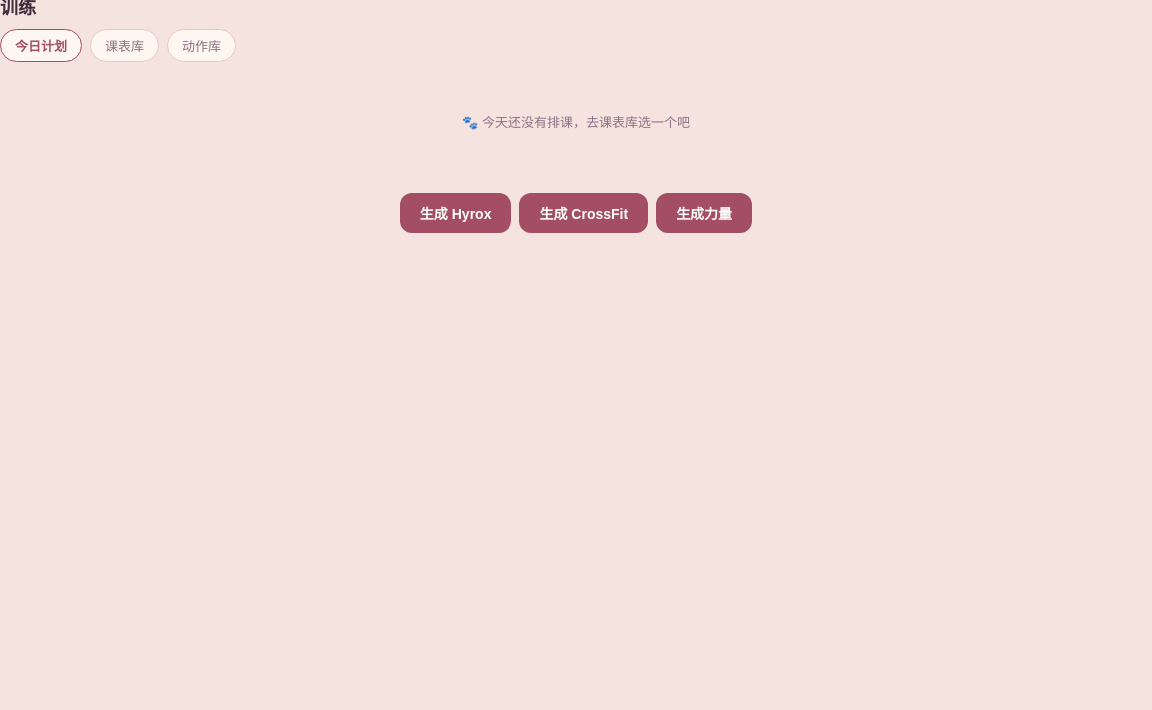
Test: TrainView 动作库 › 点击动作 → 展示详情（肌群/要点/常见错误/视频外链）
The image size is (1152, 710).
Click the button "动作库": (202, 46) [167,29,236,62]
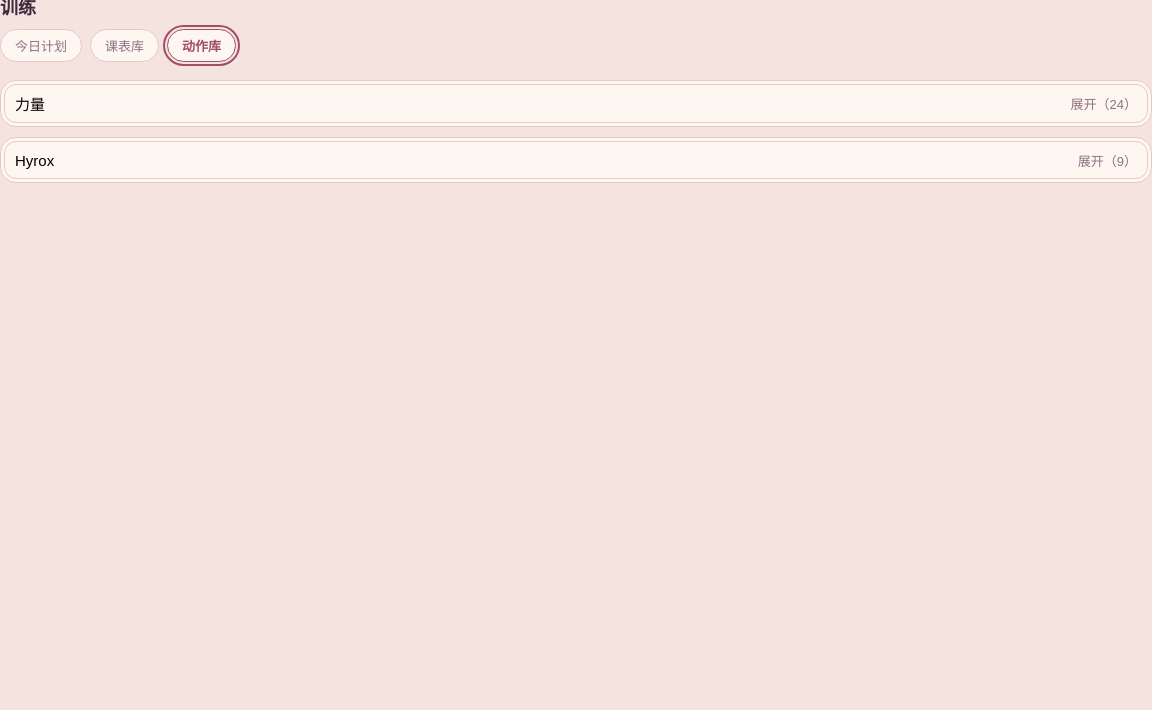
Click the text "力量": (30, 104) [15,93,45,114]
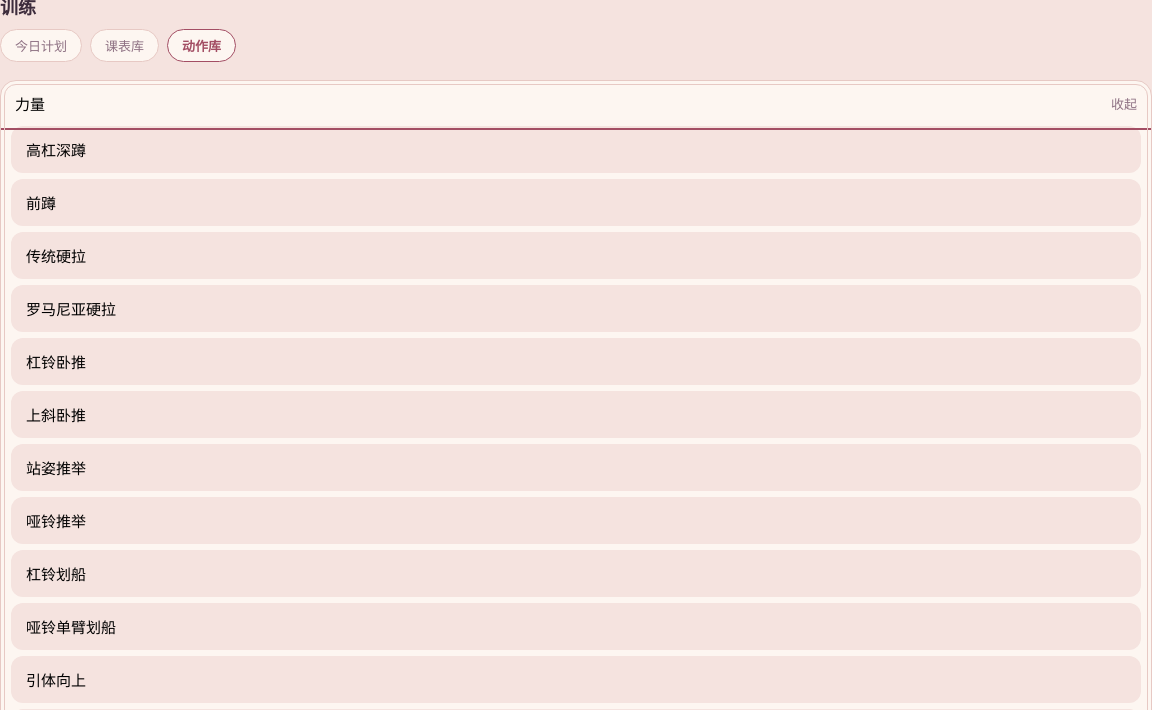
Click the button "高杠深蹲": (56, 150) [11,126,1141,173]
(page scrolled)
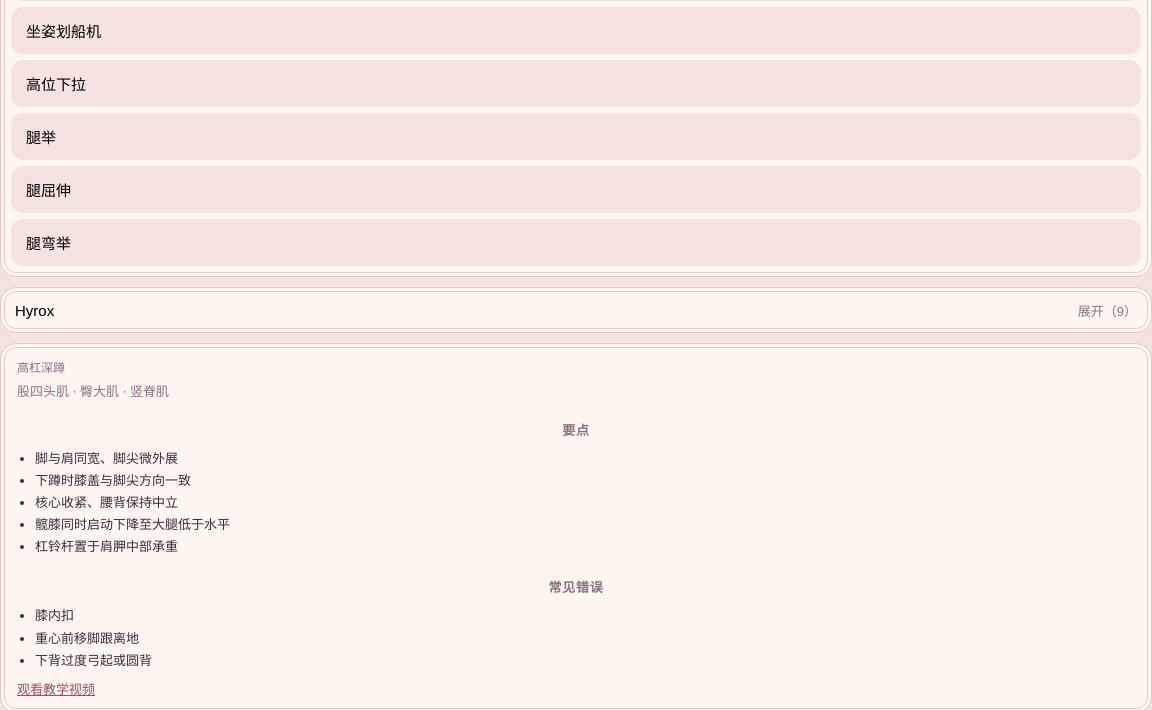
expect the text "股四头肌 · 臀大肌 · 竖脊肌" is shown: met, box [17,383,169,399]
